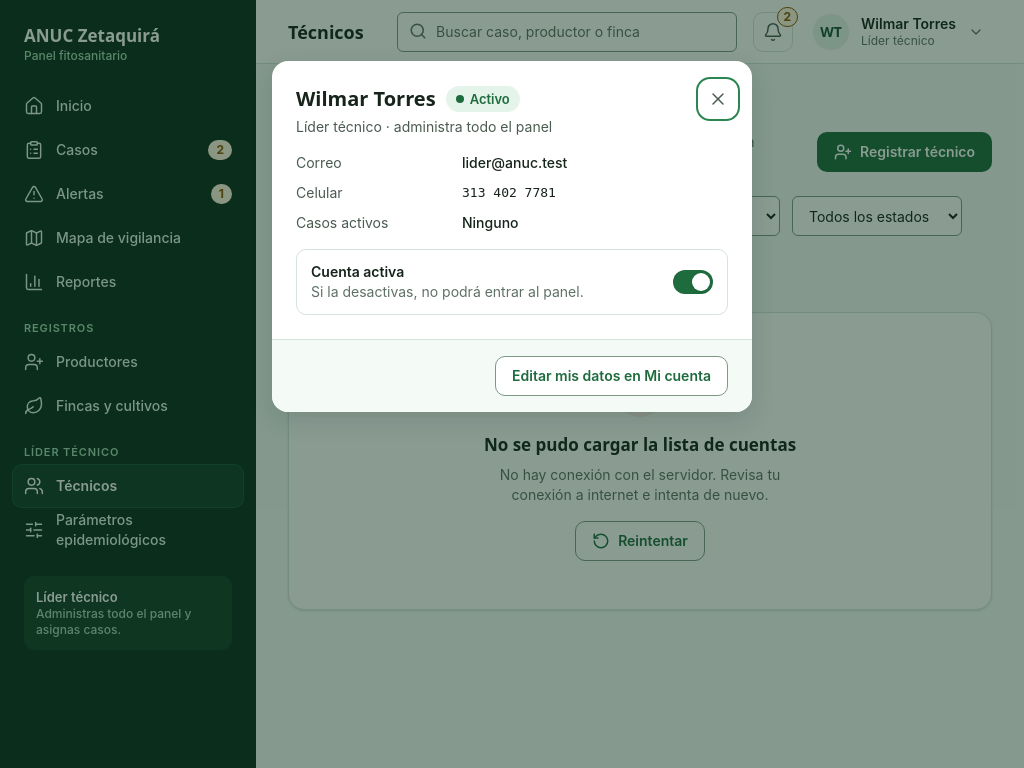
Test case: Técnicos (cuentas del panel) › no deja desactivar la única cuenta activa de un rol y explica por qué
The width and height of the screenshot is (1024, 768).
Expected: the text "Líder técnico · administra todo el panel" is shown, [296,118,552,135]
Expected: the link "Editar mis datos en Mi cuenta" is shown, [495,356,728,396]
Click the switch at (693, 282), box [673,270,713,294]
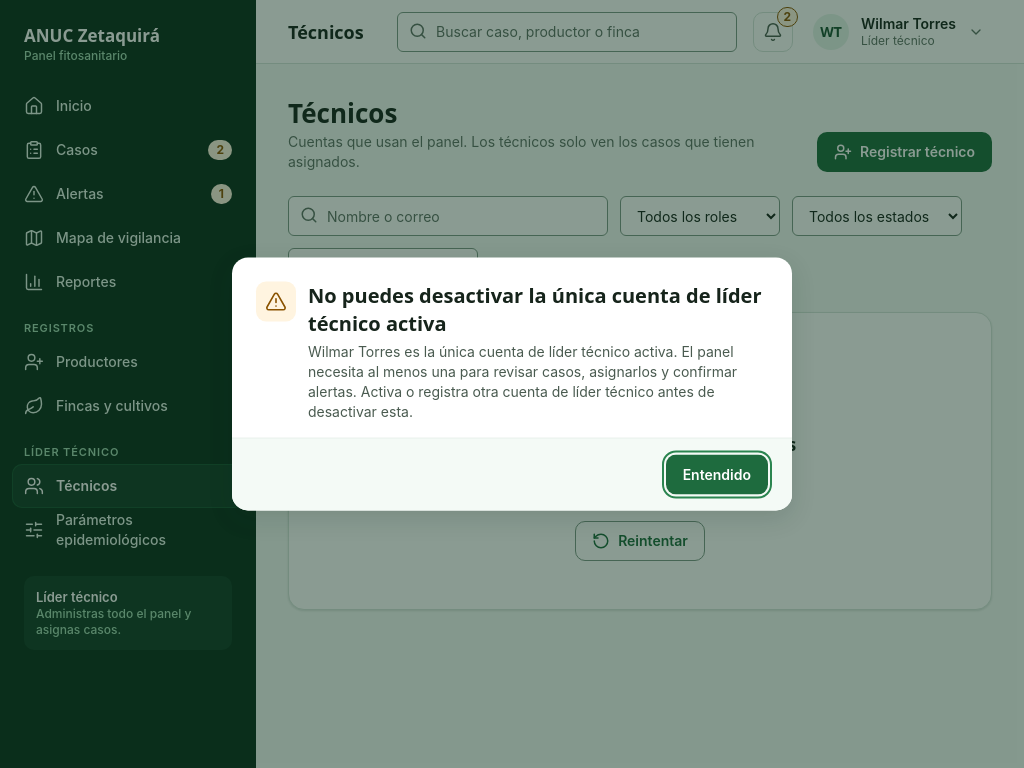
Expected: the text "necesita al menos una para revisar casos, asignarlos y confirmar alertas" is shown, [308,342,737,420]
Click the button "Entendido" at (717, 474), box [666,454,768,494]
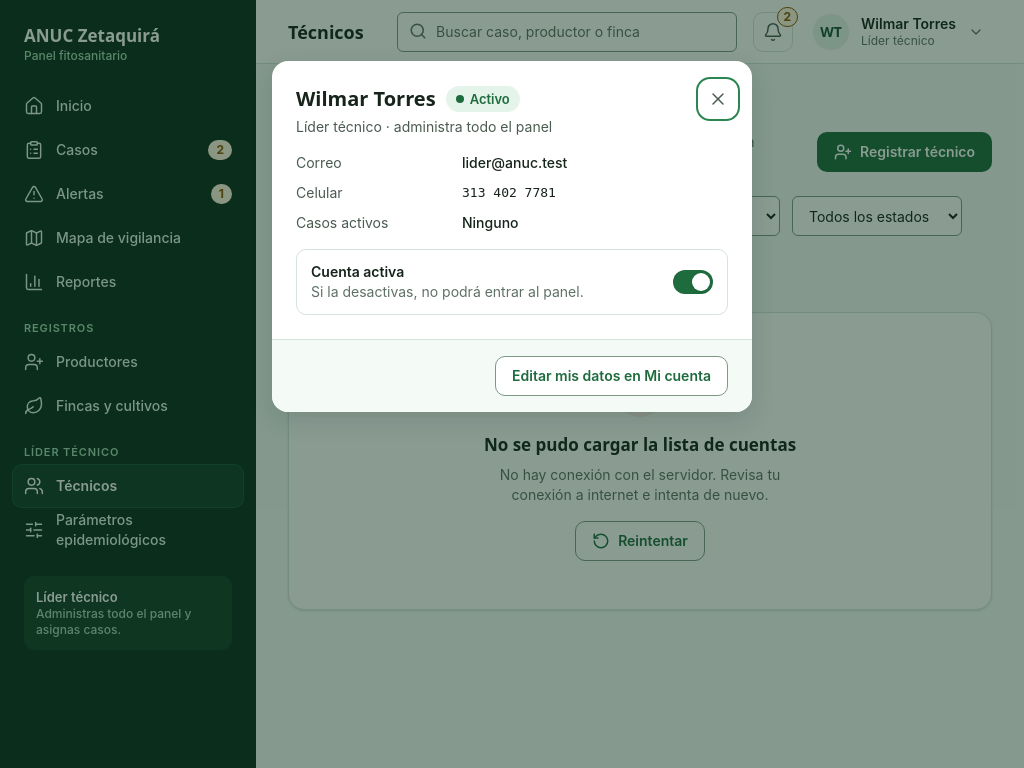
Expected: the dialog "Wilmar Torres" is shown, [272,61,752,412]
